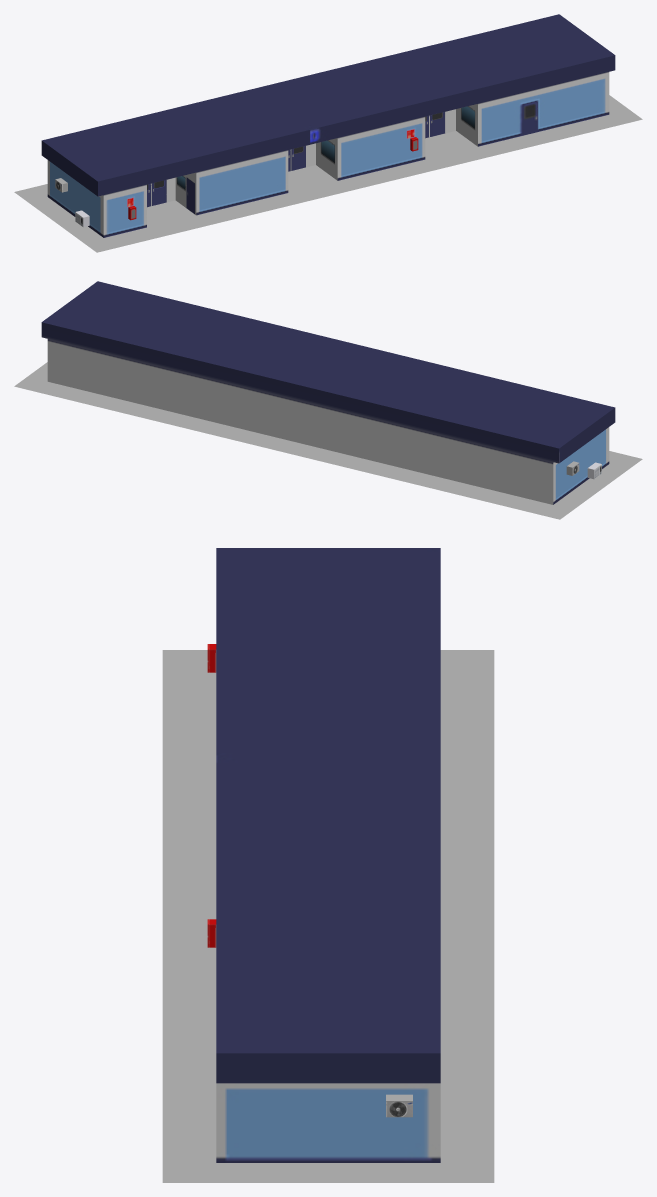
3 views of the same model, one above another, from view 1: azimuth 30°, elevation 25°; view 2: azimuth 150°, elevation 25°; view 3: azimuth 270°, elevation 25° (orthographic). The views are drawn at different scales.
Visible parts, largest first — view 1: N25_lowpoly; view 2: N25_lowpoly; view 3: N25_lowpoly.
Boxes of the visible parts, bbox=[...] form: N25_lowpoly: bbox=[14, 14, 642, 252]; N25_lowpoly: bbox=[14, 281, 642, 519]; N25_lowpoly: bbox=[162, 548, 494, 1182].
Bounding box in the file's own units: 4520 × 458 × 1189.
